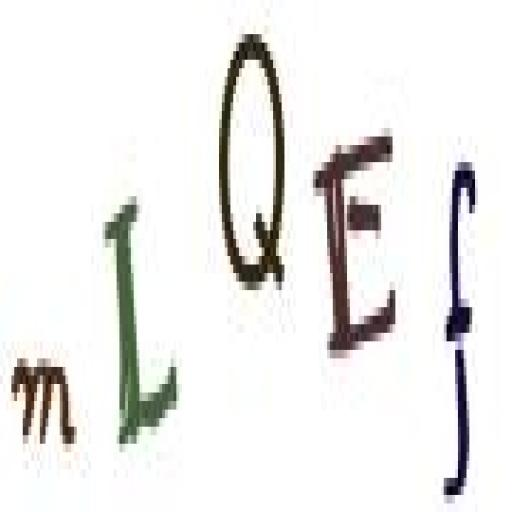E: (311, 124, 402, 368)
L: (100, 198, 184, 454)
Q: (214, 19, 296, 321)
f: (432, 136, 483, 512)
m: (9, 341, 87, 462)
